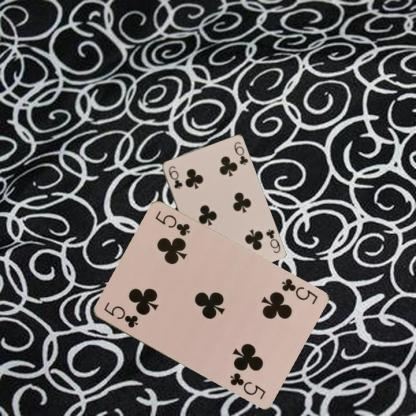5c: (278, 276, 319, 306), (101, 299, 139, 330)
6c: (166, 163, 184, 191), (263, 226, 281, 254)
